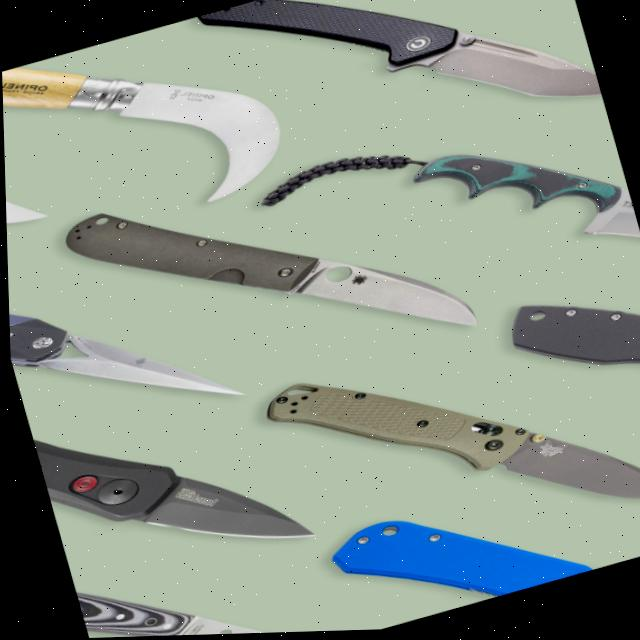knife: (188, 127, 640, 626), (0, 0, 497, 453), (11, 300, 332, 619), (4, 183, 267, 472), (265, 377, 560, 634), (374, 19, 640, 302), (450, 192, 640, 440), (69, 513, 371, 639), (4, 155, 51, 244), (515, 0, 577, 26)
